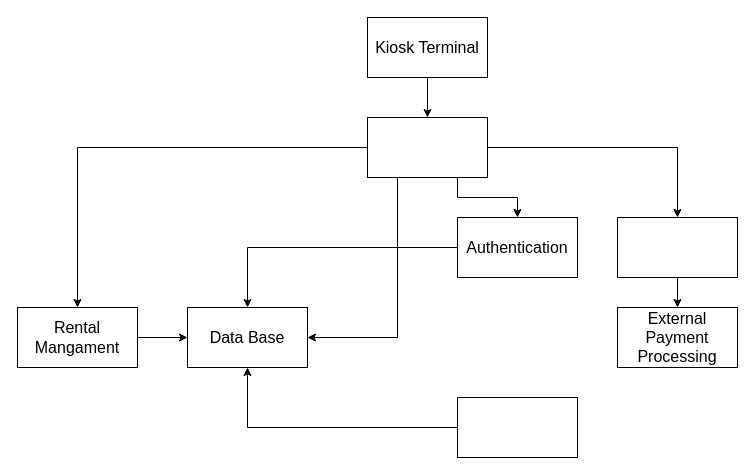
The diagram is 755 pixels wide and 475 high, and some of its shapes have lost their labels. The centre of each missing label's shape, as x and y in pixels:
"API" goes at (x=427, y=147).
"Inventory Management" goes at (x=517, y=427).
"Payment Processing" goes at (x=677, y=247).
